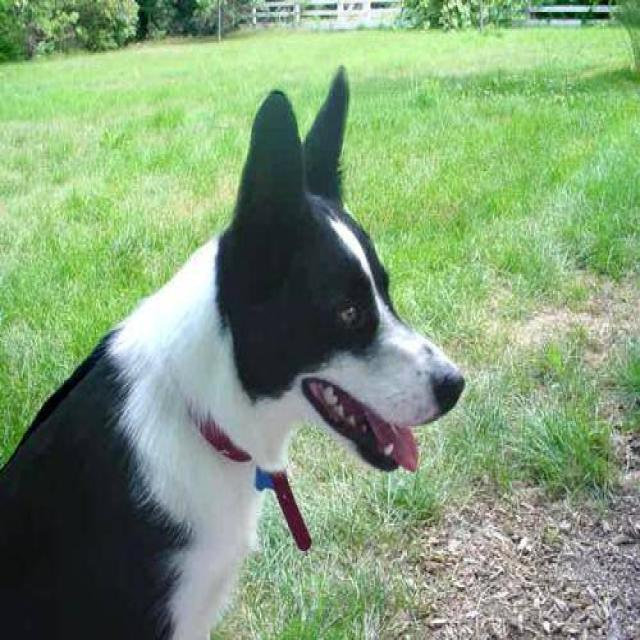dog: (0, 64, 466, 638)
